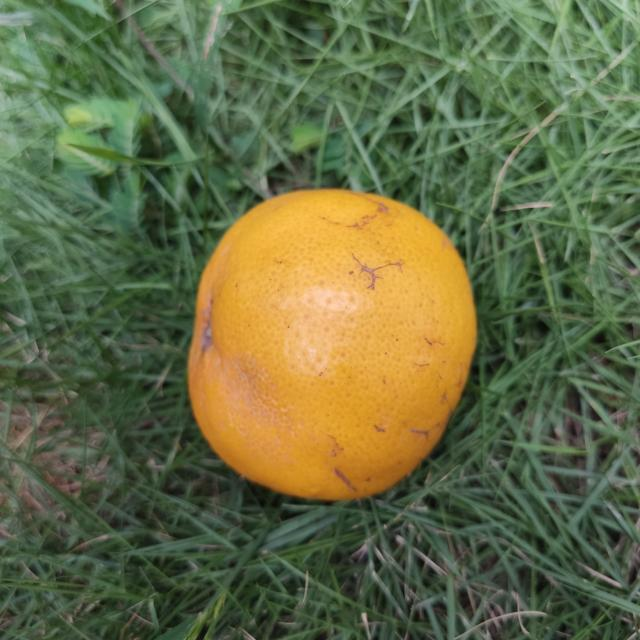orange: (184, 187, 480, 505)
